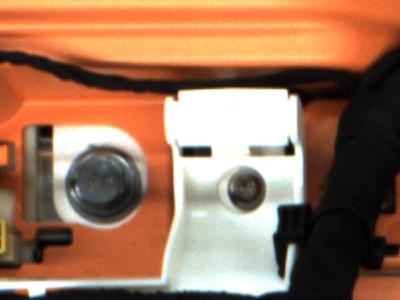nut_b: (62, 150, 144, 217)
